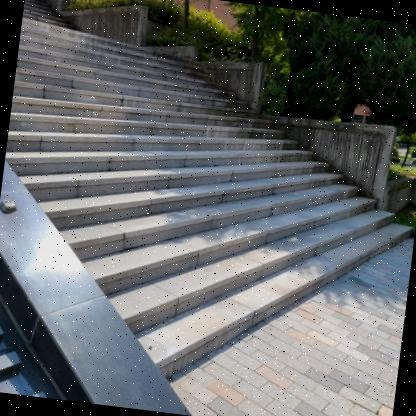stair: (0, 21, 402, 394)
